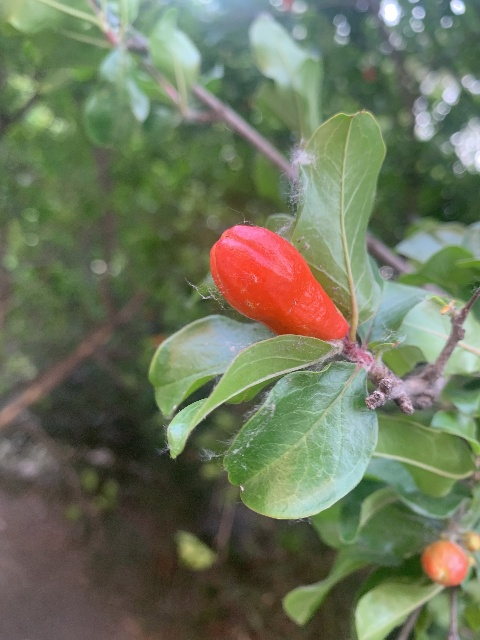bud: (208, 223, 350, 340), (420, 540, 468, 586)
